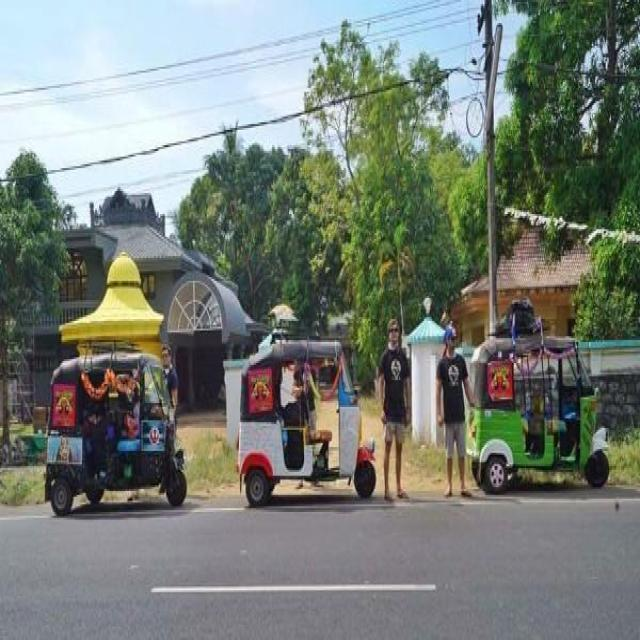auto ahead at: (241, 331, 378, 514), (49, 352, 189, 526), (474, 338, 614, 498)
